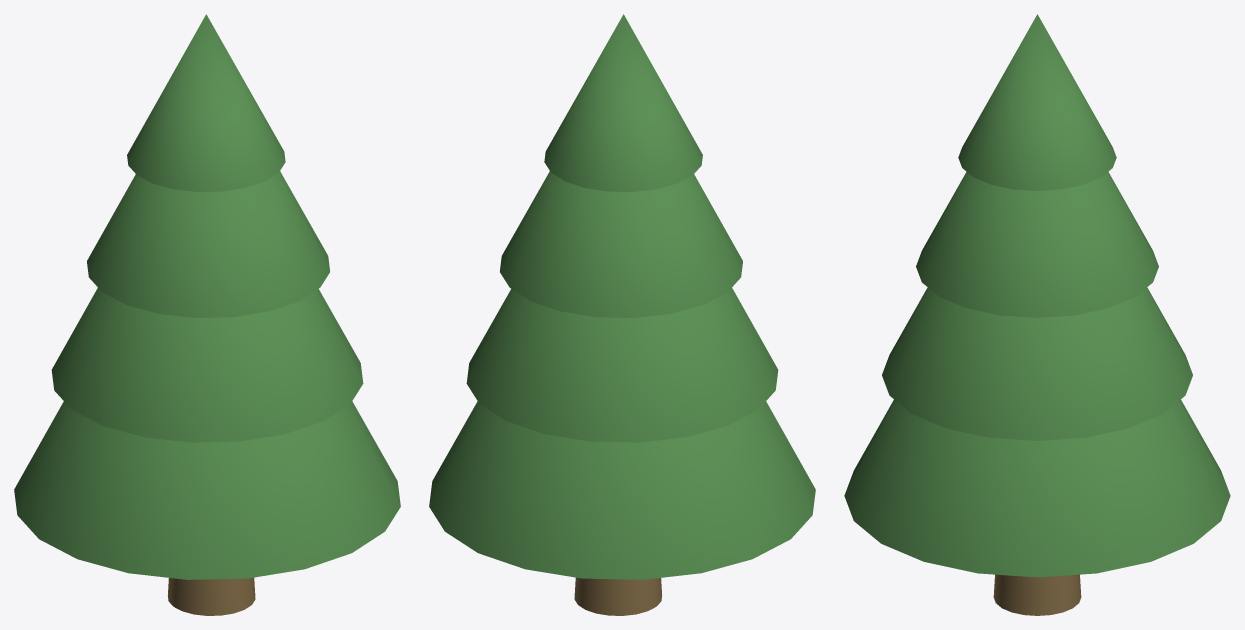
Rendered from Pinheiro.fbx.
The picture shows the model from 3 angles, left to right: view 1: azimuth 30°, elevation 25°; view 2: azimuth 150°, elevation 25°; view 3: azimuth 270°, elevation 25°; orthographic projection.
Parts seen in each view (by area): view 1: pCone4, pCone3, pCone2, pCone1, pCylinder1; view 2: pCone4, pCone3, pCone2, pCone1, pCylinder1; view 3: pCone4, pCone3, pCone2, pCone1, pCylinder1.
Boxes of the visible parts, box(x1,y1,x2,y2) form: pCone4: box(14, 401, 400, 579); pCone3: box(51, 288, 363, 442); pCone2: box(87, 171, 329, 317); pCone1: box(127, 14, 285, 191); pCylinder1: box(167, 577, 255, 615); pCone4: box(429, 401, 815, 579); pCone3: box(466, 288, 778, 442); pCone2: box(500, 171, 742, 317); pCone1: box(544, 14, 702, 191); pCylinder1: box(574, 577, 662, 615); pCone4: box(844, 399, 1230, 577); pCone3: box(882, 287, 1192, 440); pCone2: box(916, 172, 1158, 317); pCone1: box(958, 14, 1116, 190); pCylinder1: box(993, 574, 1081, 615).
Size of the model in its own units: 3.18 by 5.27 by 3.18.
